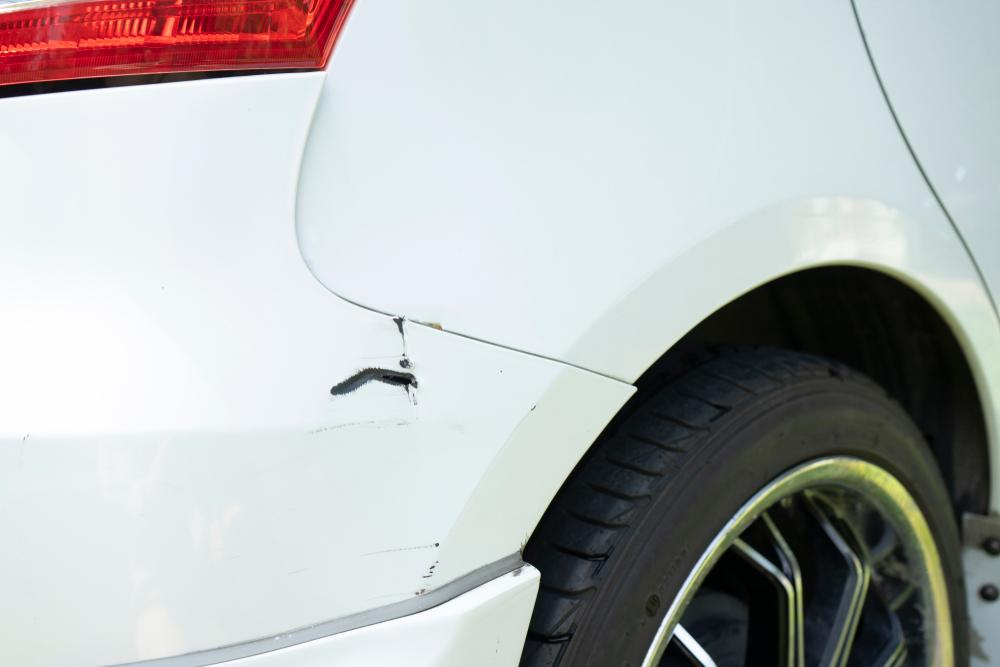crack: (379, 372, 418, 388)
scratch: (322, 315, 416, 400)
